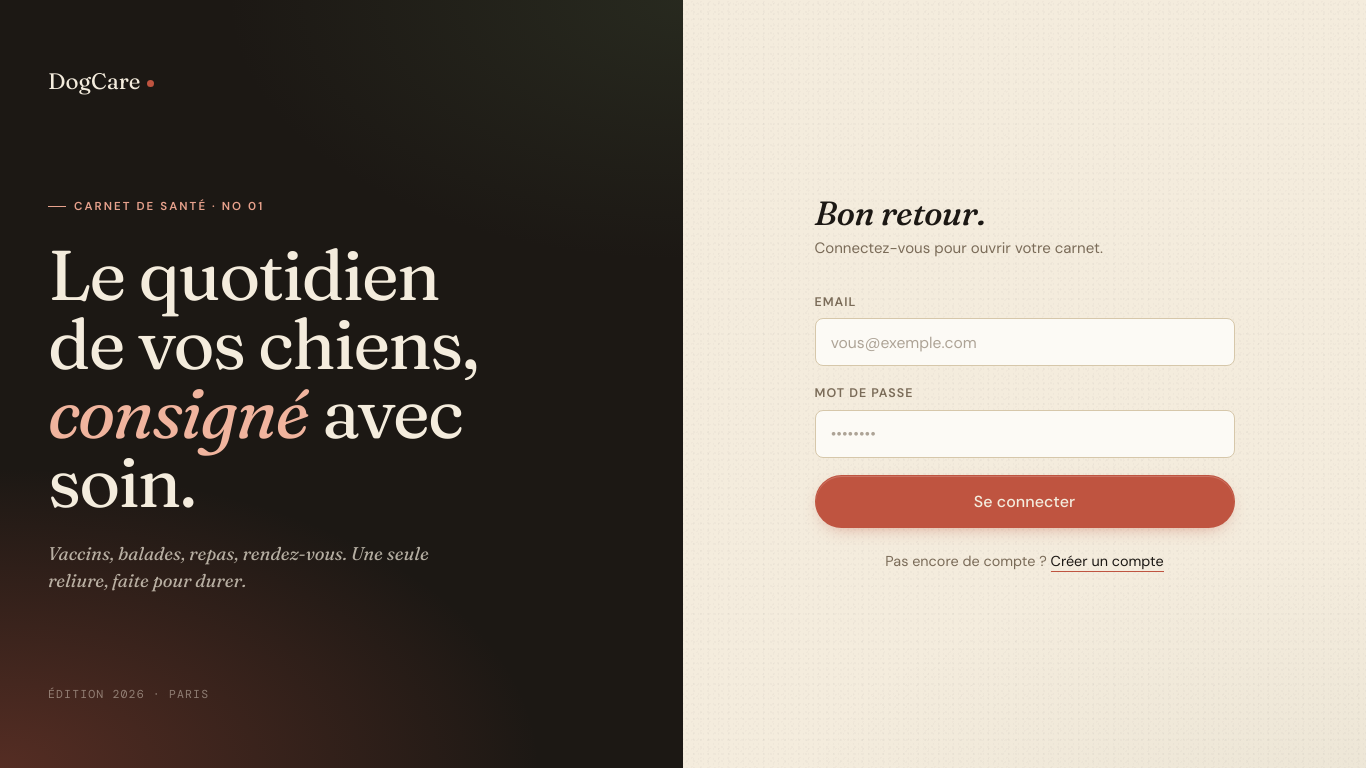
it: LoginPage › shows a default error message when error has no message field
Type "a@b.com" into the field labelled "Email". click: (1024, 342)
box: [814, 318, 1234, 366]
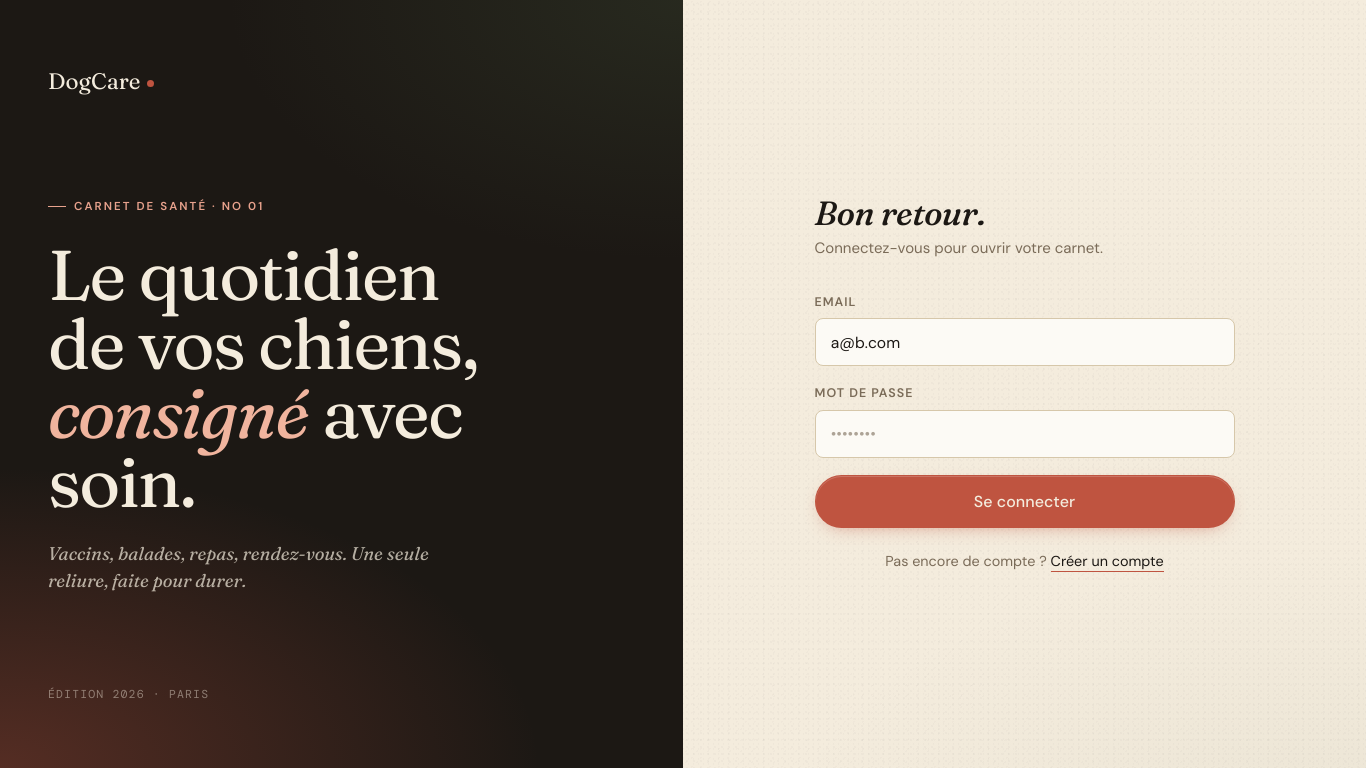
Type "wrong" into the password field labelled "Mot de passe". click: (1024, 434)
box: [814, 410, 1234, 458]
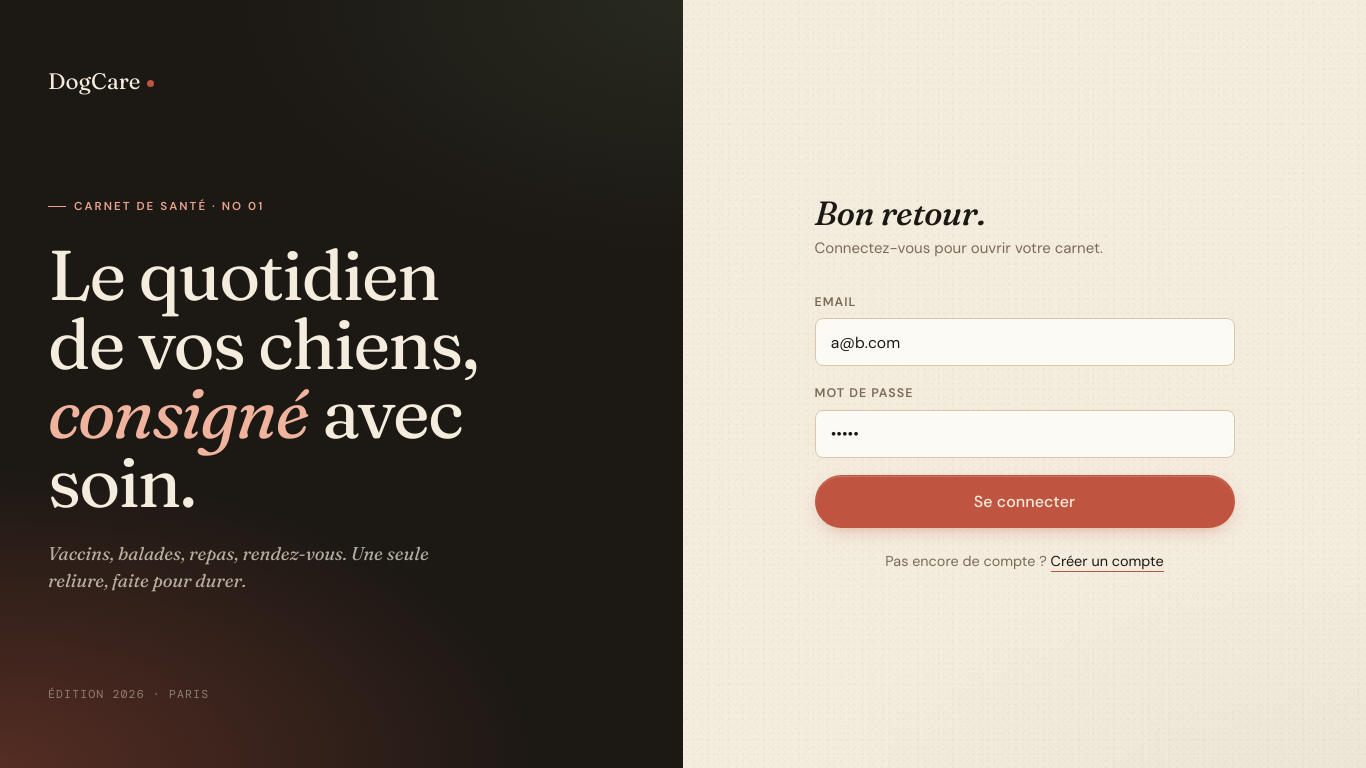
Click the button "Se connecter". click: (1024, 501)
box: [814, 475, 1234, 528]
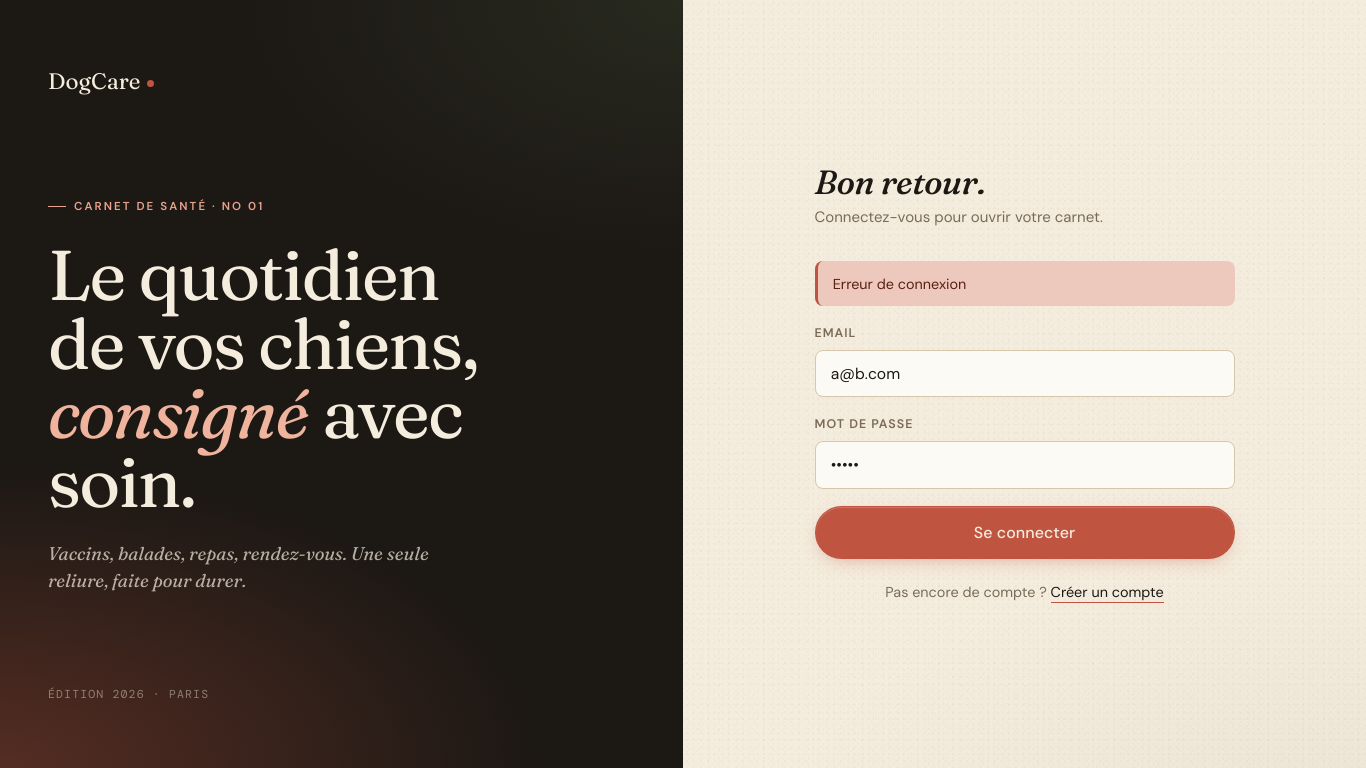
expect the text "Erreur de connexion" is shown: met, box [814, 262, 1234, 306]
